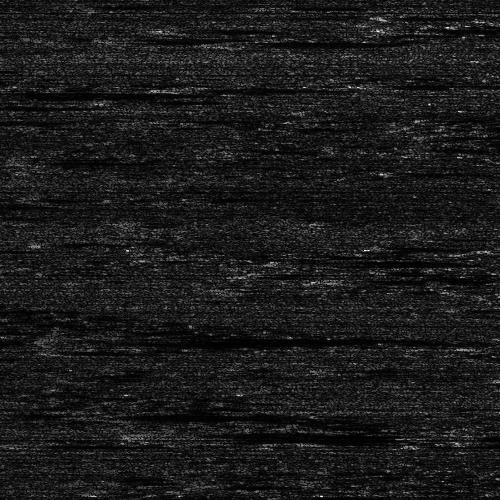object: (29, 329, 164, 348), (99, 431, 224, 442), (365, 22, 458, 35), (294, 272, 377, 281), (6, 157, 69, 166), (266, 257, 339, 264), (190, 38, 263, 45), (418, 433, 481, 440), (97, 34, 150, 41), (147, 27, 210, 32), (396, 442, 449, 447), (0, 85, 13, 98)
shadow: (97, 329, 393, 348), (0, 85, 163, 98), (162, 431, 314, 442), (335, 272, 500, 281), (412, 22, 500, 35), (303, 257, 448, 264), (227, 38, 372, 45), (38, 157, 139, 166), (124, 34, 232, 41), (179, 27, 266, 32), (423, 442, 500, 447), (449, 433, 500, 440), (0, 103, 70, 108), (0, 116, 17, 121)
